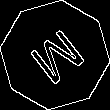M_SE: (22, 21, 88, 89)
